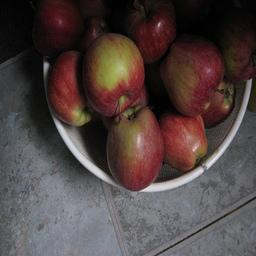apple: (81, 33, 145, 116), (162, 36, 225, 118), (106, 108, 164, 189), (120, 1, 176, 65), (46, 51, 91, 126), (157, 108, 207, 172), (32, 1, 85, 57), (199, 77, 234, 127)
